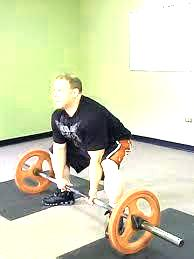Barbell: (177, 237, 187, 251)
